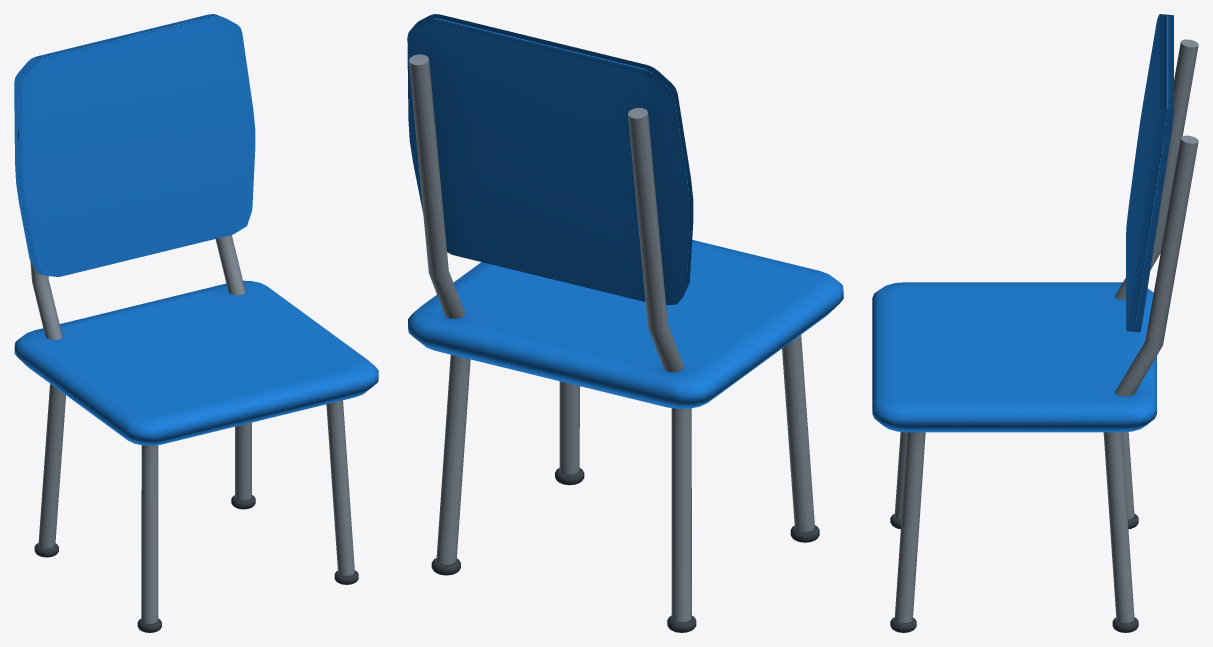
Rendered from school-chair.fbx.
3 views of the same model, side by side, from view 1: azimuth 30°, elevation 25°; view 2: azimuth 150°, elevation 25°; view 3: azimuth 270°, elevation 25° (orthographic). The views are drawn at different scales.
Parts seen in each view (by area): view 1: school-chair; view 2: school-chair; view 3: school-chair.
Part boxes in pixels (box(x1,y1,x2,y2)): school-chair: box(14, 14, 378, 632); school-chair: box(407, 14, 843, 632); school-chair: box(872, 14, 1198, 632).
Size of the model in its own units: 11000 by 20000 by 11466.
Materials: 1 (1 with a texture image).
